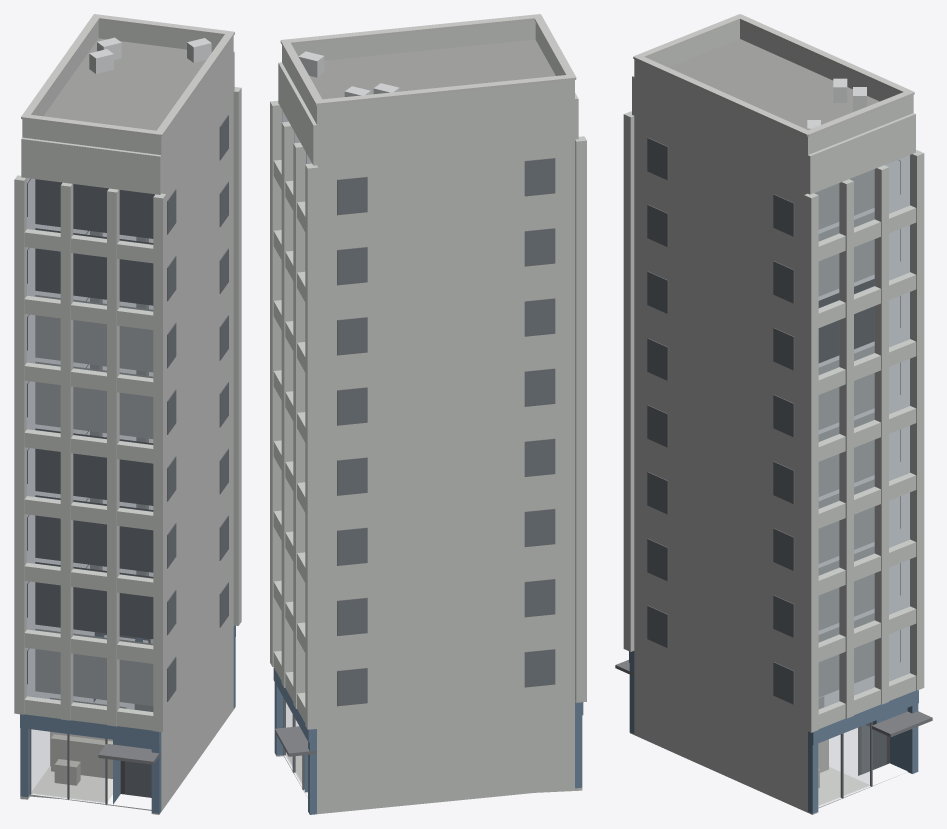
File: d27-naruse-inferred.glb
3 views of the same model, side by side, from view 1: azimuth 30°, elevation 25°; view 2: azimuth 150°, elevation 25°; view 3: azimuth 270°, elevation 25° (orthographic). The views are drawn at different scales.
Parts seen in each view (by area): view 1: INFERRED_D27_exact_wall_0, INFERRED_facade.001, INFERRED_D27_exact_wall_4, INFERRED_D27_exact_interior_2, INFERRED_roof.001, INFERRED_D27_exact_wall_1, INFERRED_ground.001, INFERRED_body.001, INFERRED_D27_exact_wall_5; view 2: INFERRED_D27_exact_wall_0, INFERRED_D27_exact_wall_1, INFERRED_body.001, INFERRED_roof.001, INFERRED_D27_exact_wall_5, INFERRED_D27_exact_wall_4; view 3: INFERRED_D27_exact_wall_0, INFERRED_facade.001, INFERRED_D27_exact_interior_2, INFERRED_D27_exact_wall_1, INFERRED_body.001, INFERRED_roof.001, INFERRED_D27_exact_wall_4, INFERRED_D27_exact_wall_5, INFERRED_ground.001.
Part boxes in pixels (x1,y1,x2,y2): INFERRED_D27_exact_wall_0: (14,20,241,814); INFERRED_facade.001: (27,178,154,711); INFERRED_D27_exact_wall_4: (20,179,235,813); INFERRED_D27_exact_interior_2: (31,295,153,802); INFERRED_roof.001: (43,37,211,130); INFERRED_D27_exact_wall_1: (27,115,228,804); INFERRED_ground.001: (31,704,153,802); INFERRED_body.001: (168,117,228,699); INFERRED_D27_exact_wall_5: (21,14,234,625); INFERRED_D27_exact_wall_0: (270,20,586,814); INFERRED_D27_exact_wall_1: (275,158,555,789); INFERRED_body.001: (338,159,554,704); INFERRED_roof.001: (298,39,555,99); INFERRED_D27_exact_wall_5: (280,14,576,701); INFERRED_D27_exact_wall_4: (273,667,583,814); INFERRED_D27_exact_wall_0: (623,21,924,814); INFERRED_facade.001: (814,155,910,708); INFERRED_D27_exact_interior_2: (814,169,874,805); INFERRED_D27_exact_wall_1: (615,137,932,798); INFERRED_body.001: (648,139,792,702); INFERRED_roof.001: (668,39,879,129); INFERRED_D27_exact_wall_4: (629,279,918,813); INFERRED_D27_exact_wall_5: (633,14,914,651); INFERRED_ground.001: (818,723,886,806).
Size of the model in its own units: 13.26 by 32.57 by 13.76.
